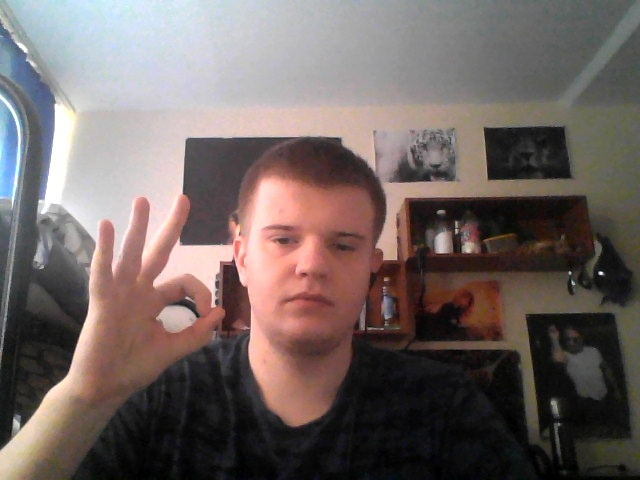ok: (79, 191, 228, 403)
